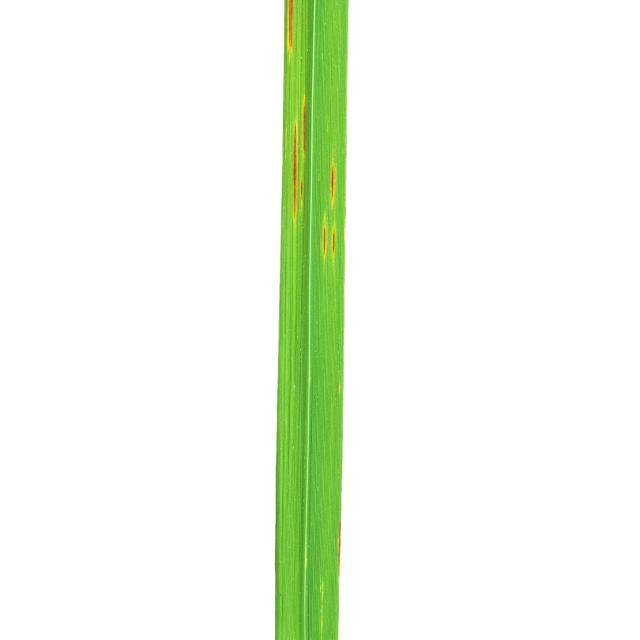Narrow brown: (234, 0, 437, 640)
